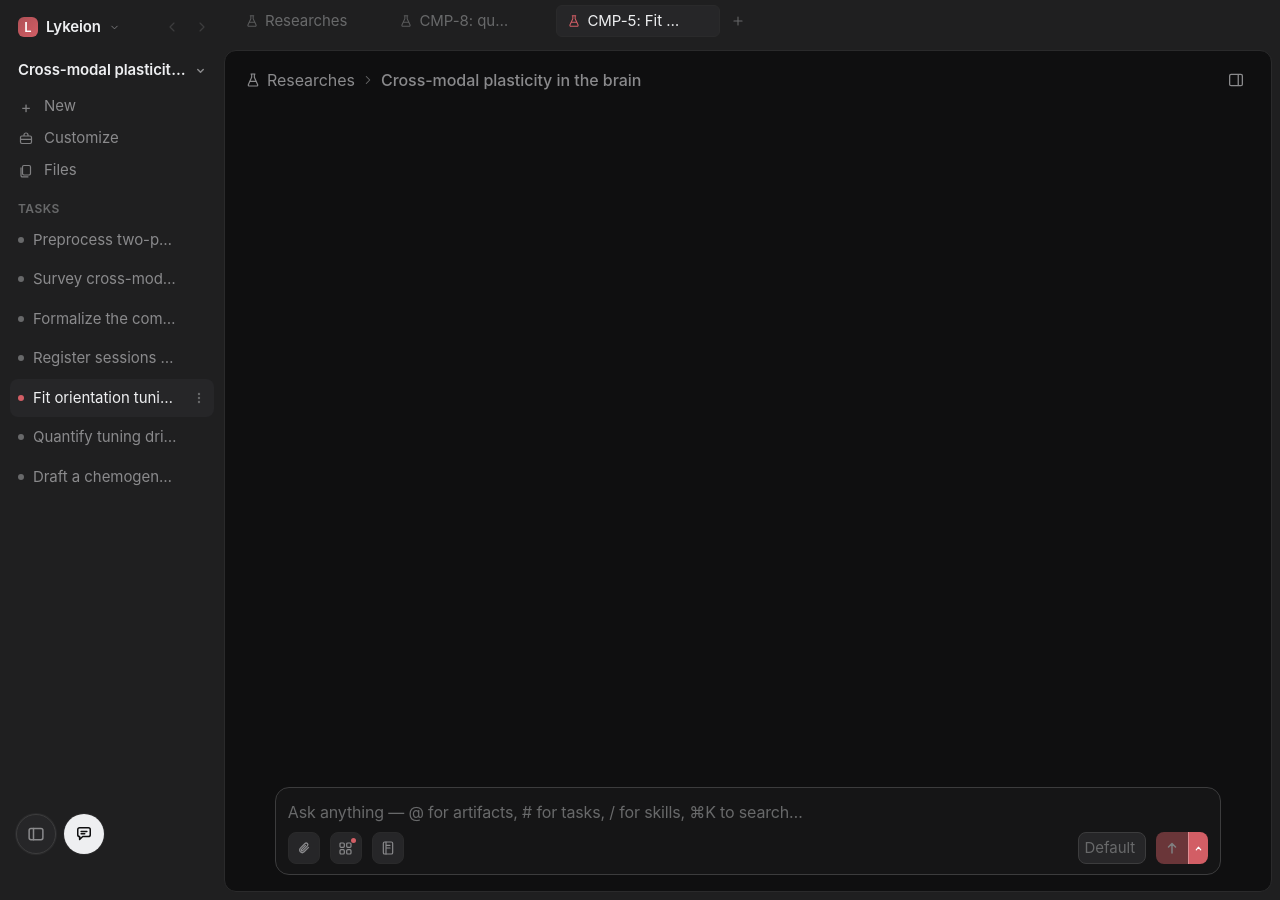
Test case: a chat's title › leaves a title somebody authored alone
This screenshot has width=1280, height=900.
Type "start with the deprivation cohort" into the text box named "Message the agent" at (748, 812), box x1=288 y1=800 x2=1208 y2=824
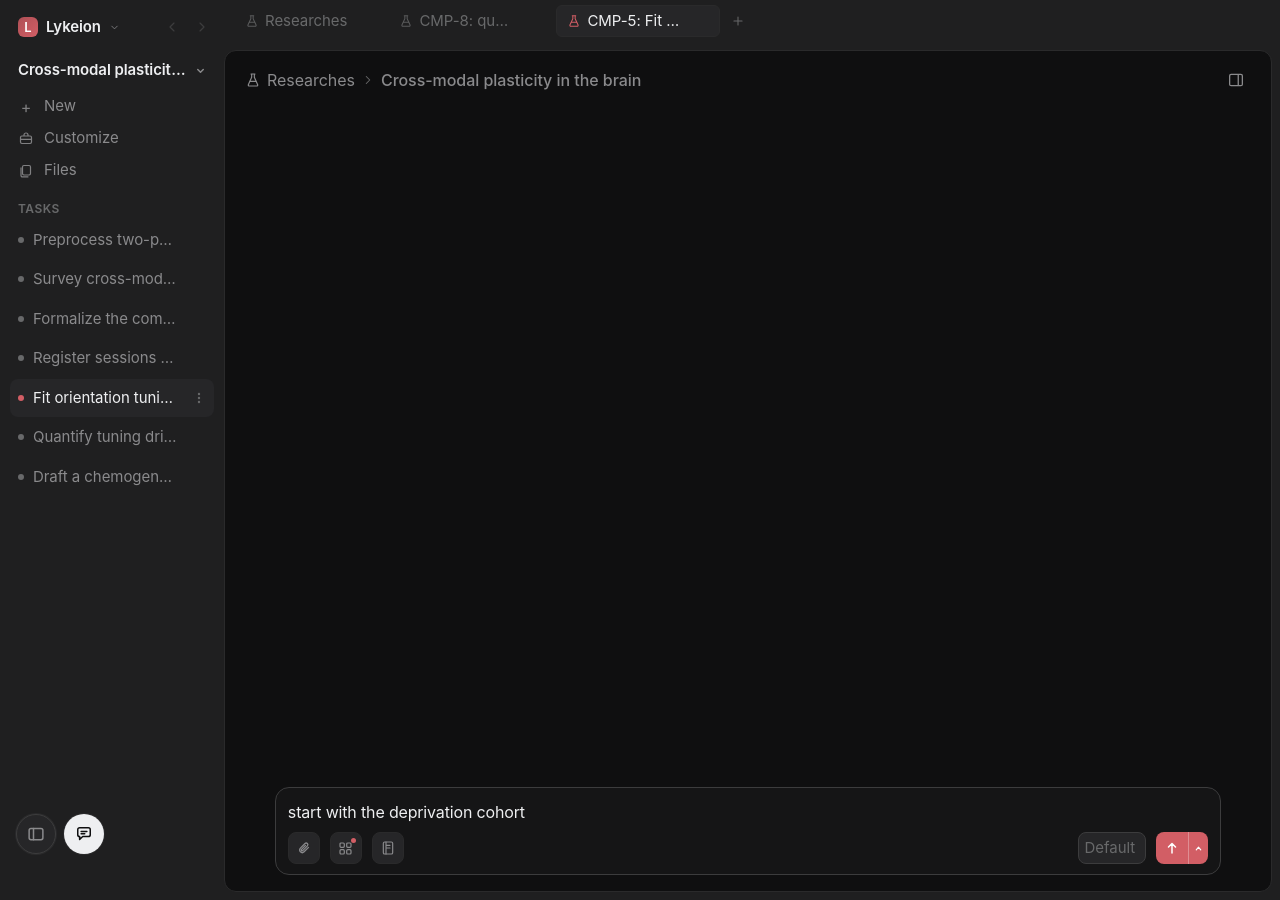
Click the button named "Send" at (1172, 848), box x1=1156 y1=832 x2=1188 y2=864
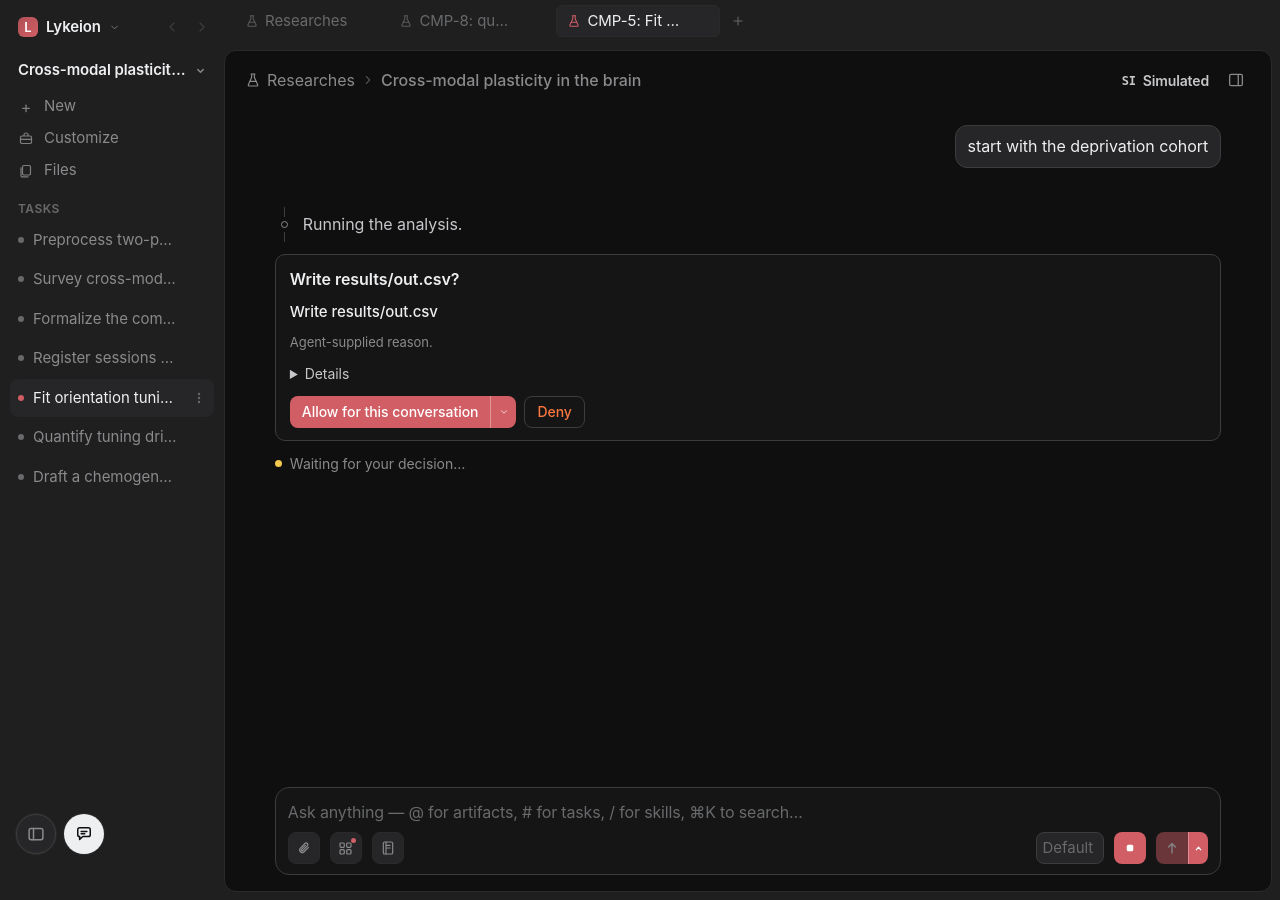
Expected: the text "Fit orientation tuning curves per neuron" is shown, x1=33 y1=387 x2=180 y2=409
Now the text "start with the deprivation cohort" is shown, box x1=954 y1=125 x2=1221 y2=168
